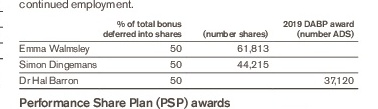table: (0, 0, 378, 109)
